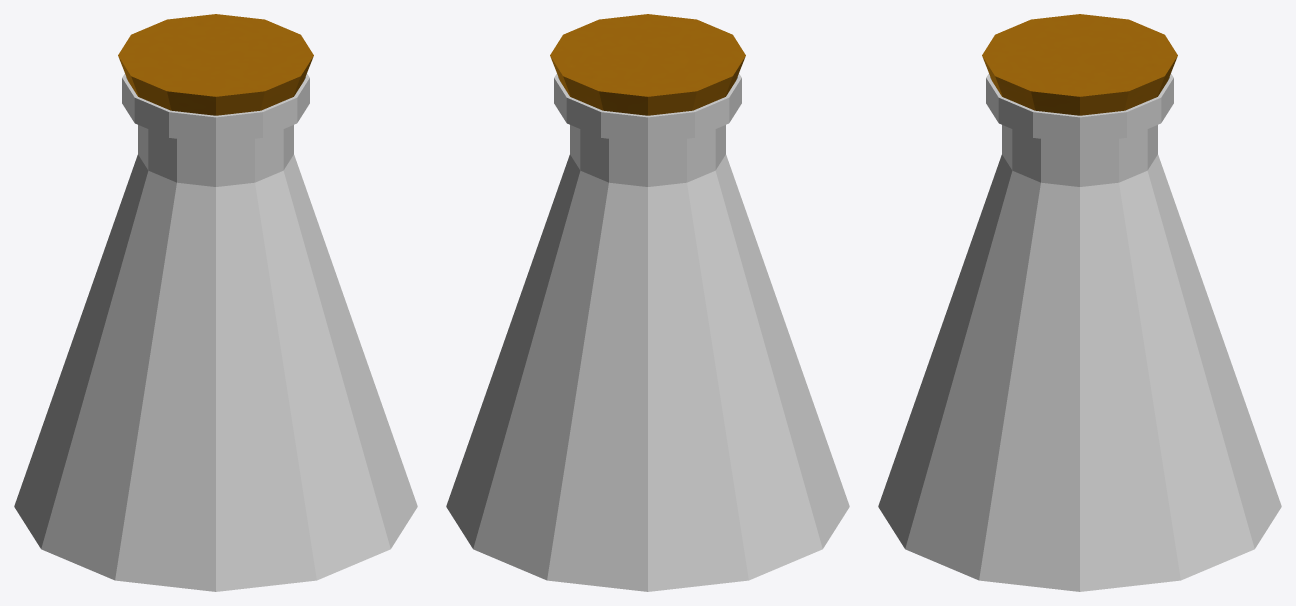
File: Potion_3.fbx
3 renders of one model, left to right at view 1: azimuth 30°, elevation 25°; view 2: azimuth 150°, elevation 25°; view 3: azimuth 270°, elevation 25°, orthographic.
Parts seen in each view (by area): view 1: Potion 3; view 2: Potion 3; view 3: Potion 3.
Boxes of the visible parts, <box> form: Potion 3: <box>14,14,417,591</box>; Potion 3: <box>446,14,849,591</box>; Potion 3: <box>878,14,1281,591</box>.
Size of the model in its own units: 10.58 by 13.05 by 10.58.
